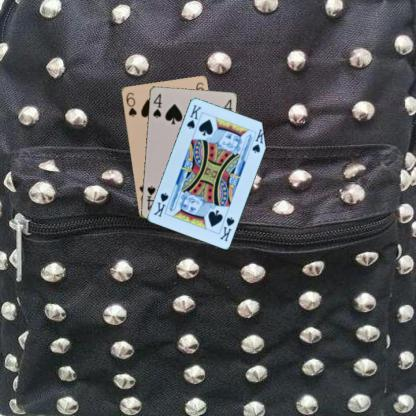4s: (150, 91, 163, 119)
6s: (123, 89, 138, 118)
Ks: (217, 214, 236, 243), (184, 102, 203, 130)
